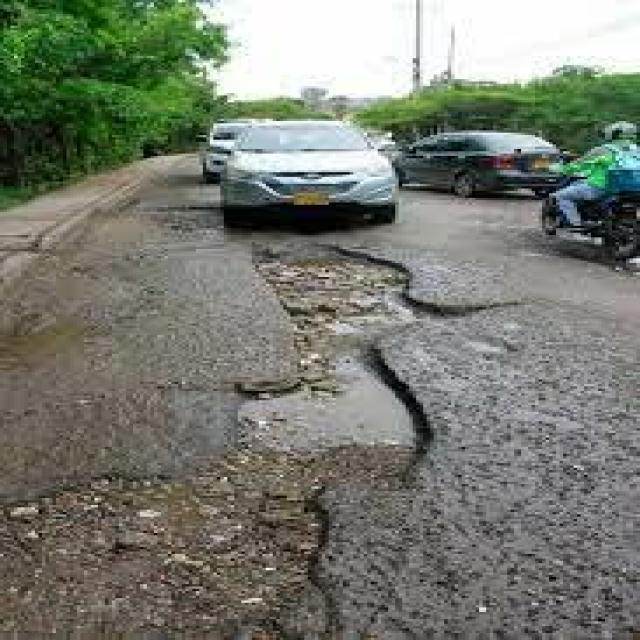Pothole: (143, 242, 552, 465), (7, 468, 402, 640)
